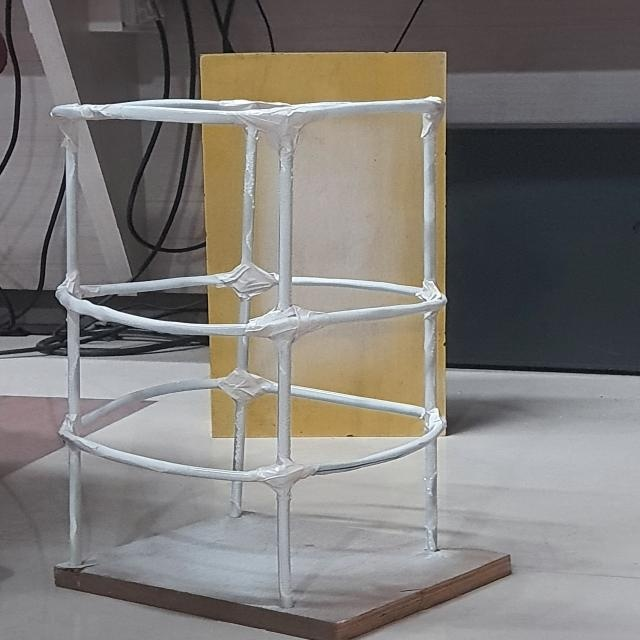silo: (41, 99, 459, 584)
